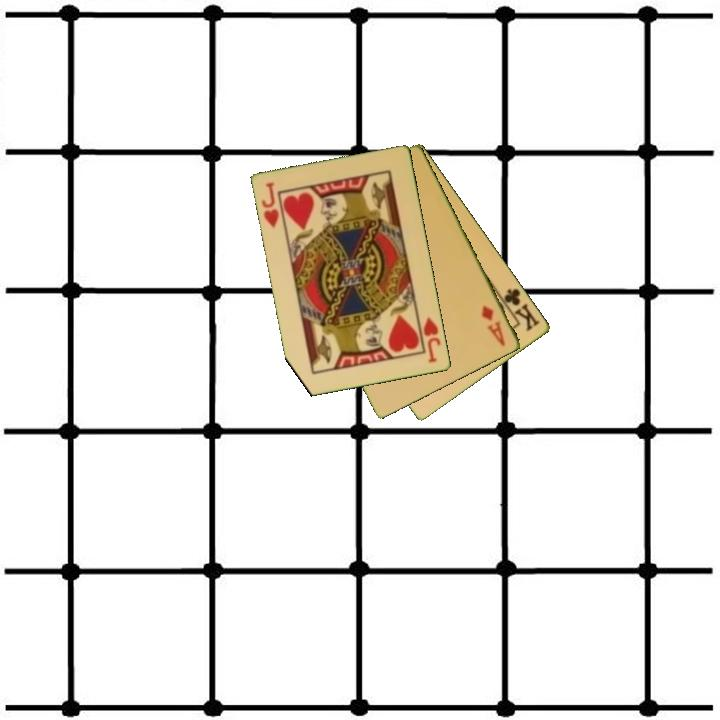Ad: (478, 301, 509, 349)
Jh: (420, 314, 444, 366), (258, 179, 282, 231)
Kc: (496, 285, 543, 334)
